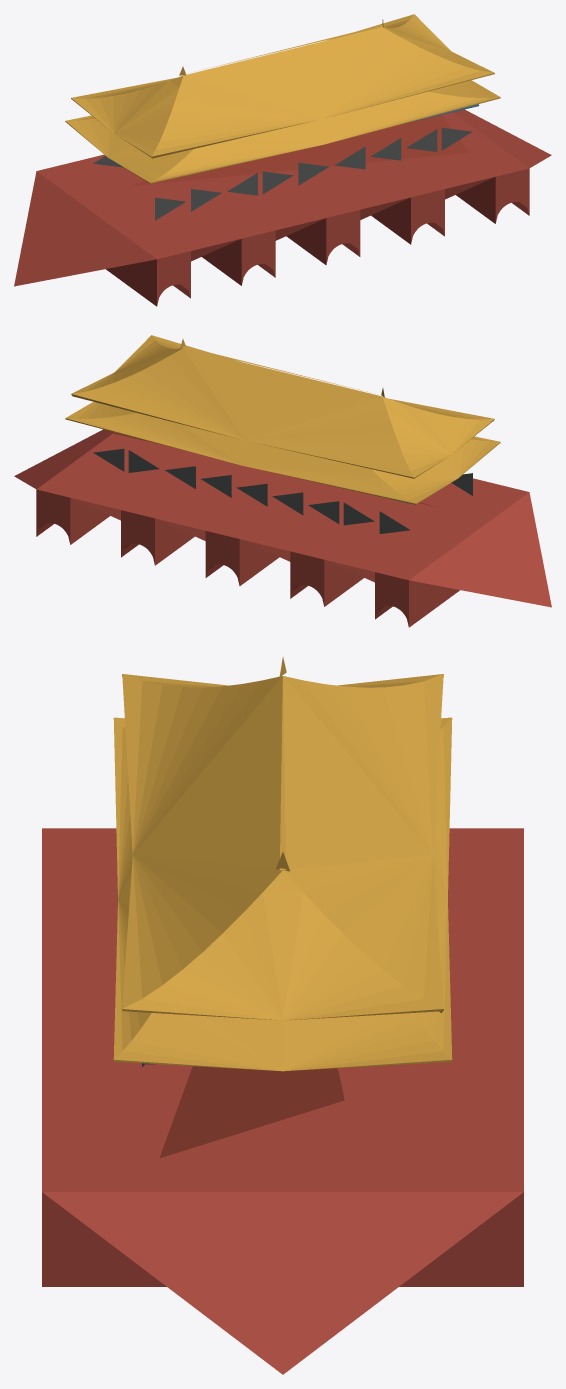
File: tiananmen-far-39aedc540c.glb
The picture shows the model from 3 angles, top to bottom: view 1: azimuth 30°, elevation 25°; view 2: azimuth 150°, elevation 25°; view 3: azimuth 270°, elevation 25°; orthographic projection. The views are drawn at different scales.
Visible parts, largest first — view 1: tiananmen coarse.001; view 2: tiananmen coarse.001; view 3: tiananmen coarse.001.
Part boxes in pixels (left/top/right/bottom): tiananmen coarse.001: left=14, top=14, right=551, bottom=306; tiananmen coarse.001: left=14, top=335, right=551, bottom=627; tiananmen coarse.001: left=42, top=657, right=523, bottom=1374.
Size of the model in its own units: 95.33 by 34.7 by 37.
